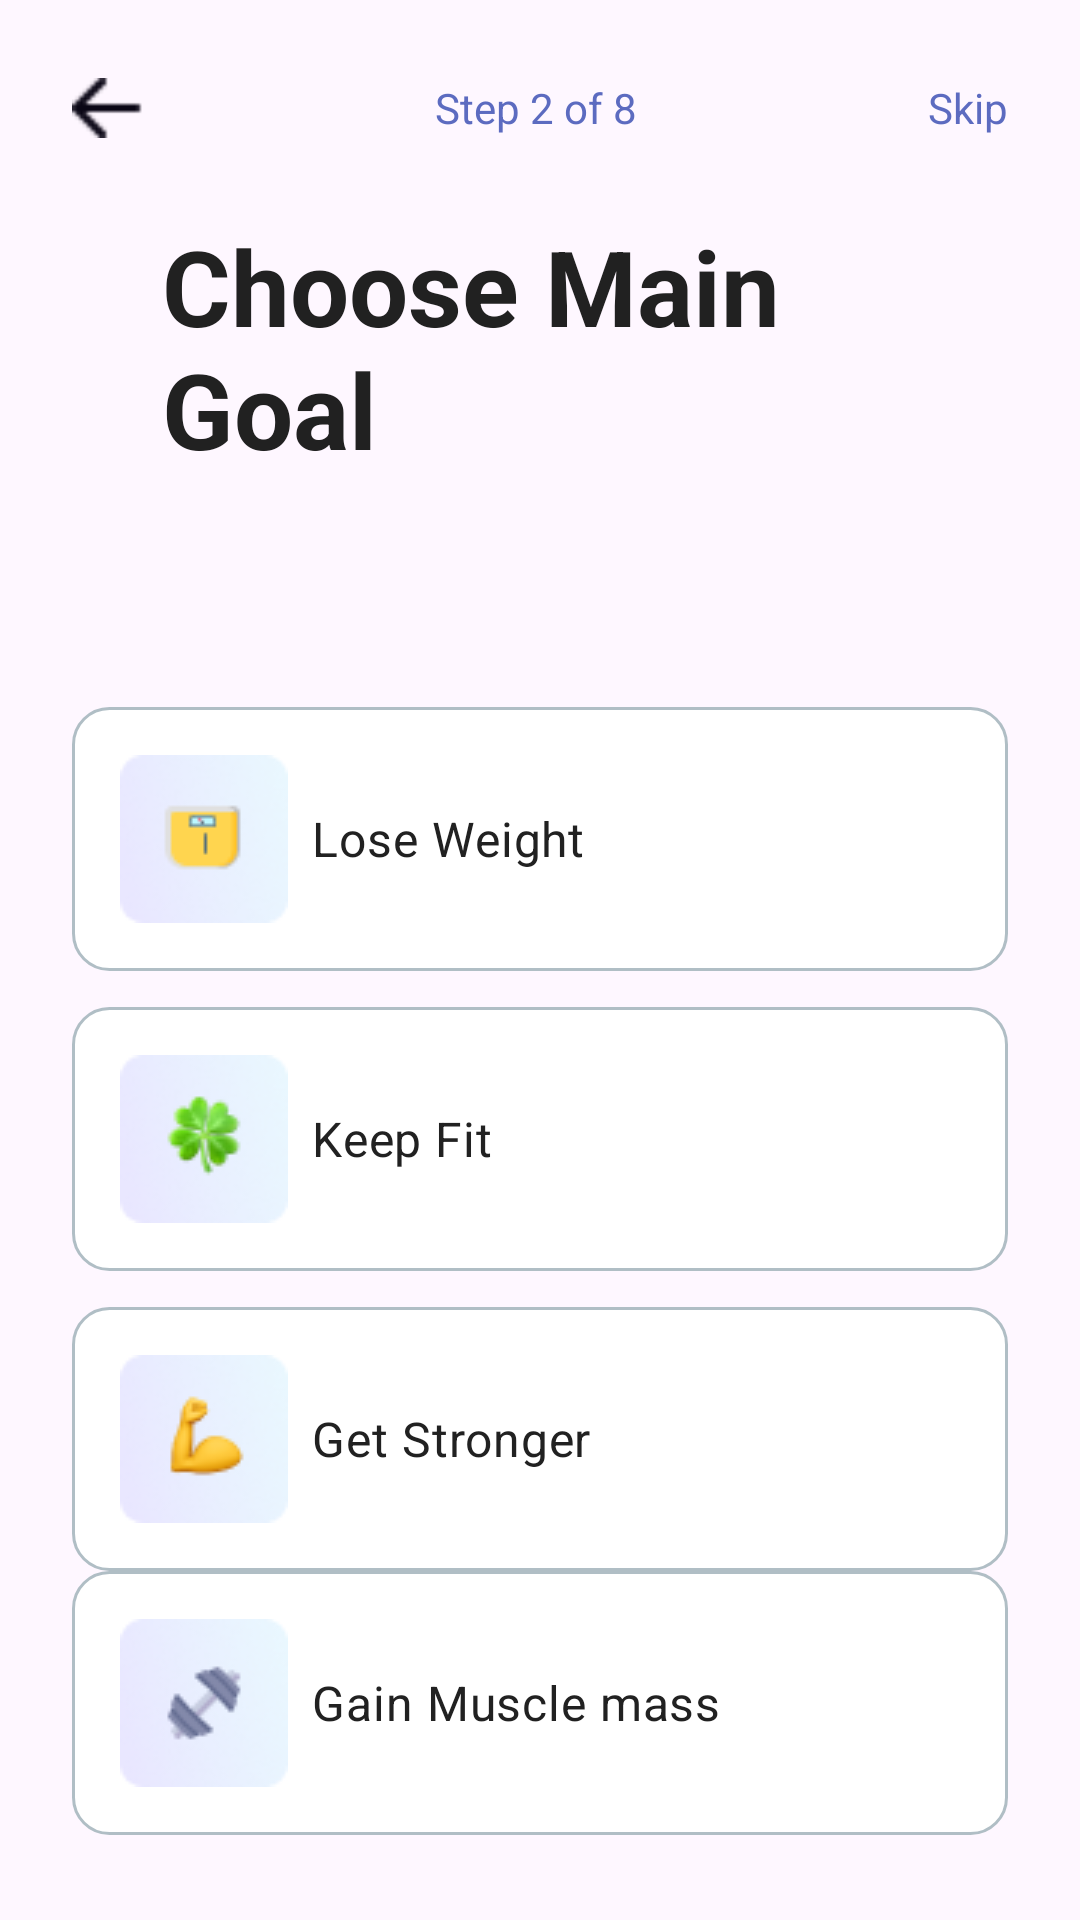

Named icons in this screenshot (1080px×1920px) and their bounding boxes, (x1, y1, x2, y2):
Back: (72, 78, 142, 138)
